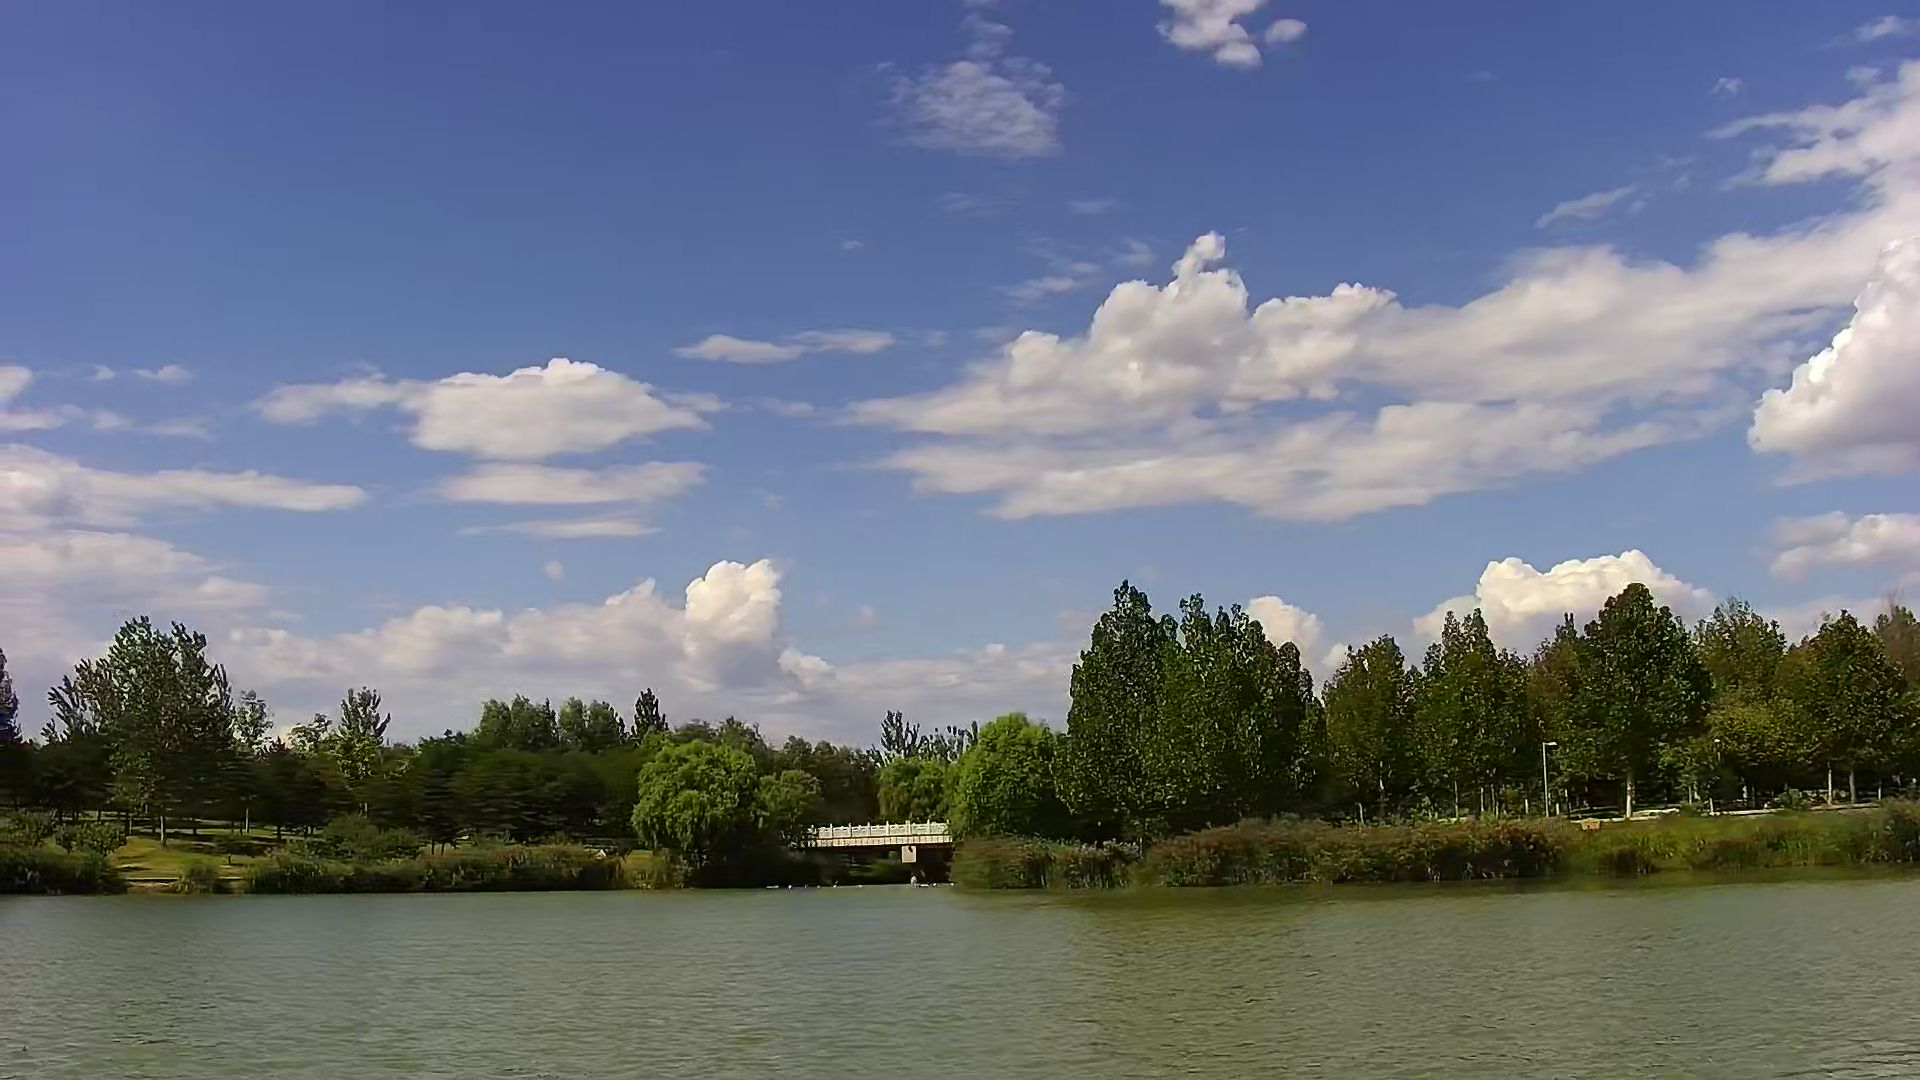bridge: (816, 815, 948, 887)
